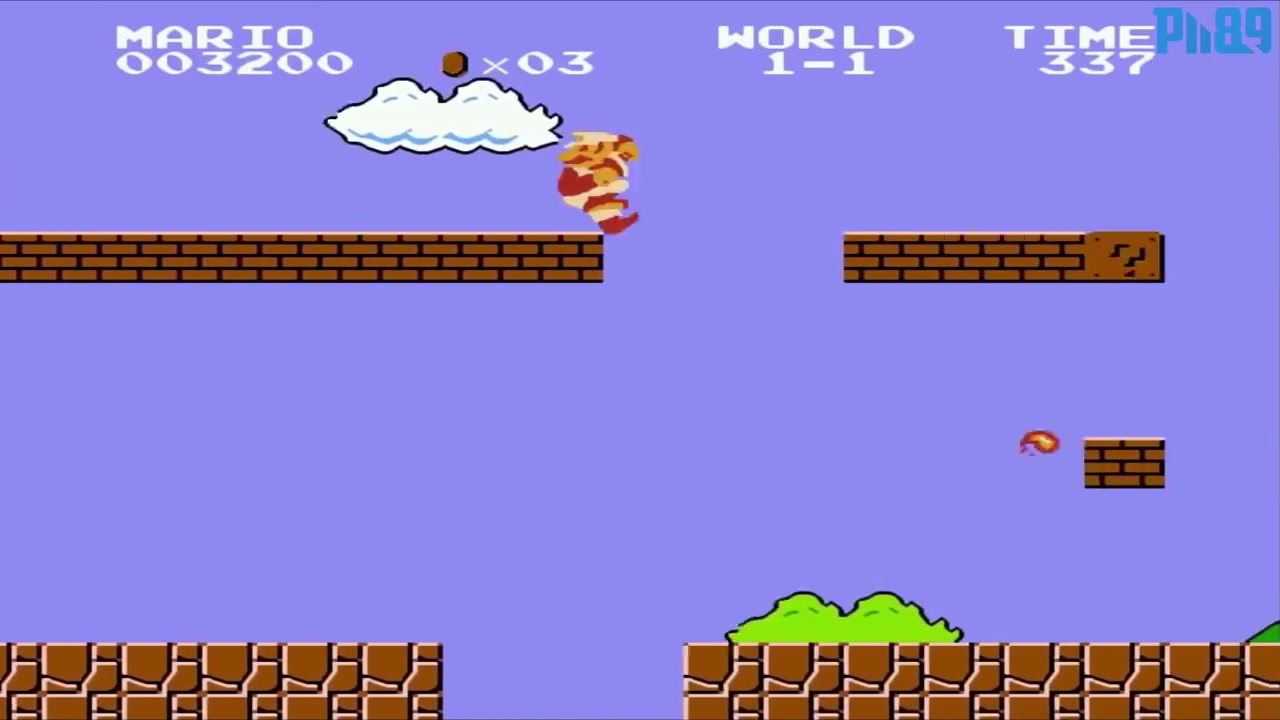mario: (551, 119, 637, 236)
